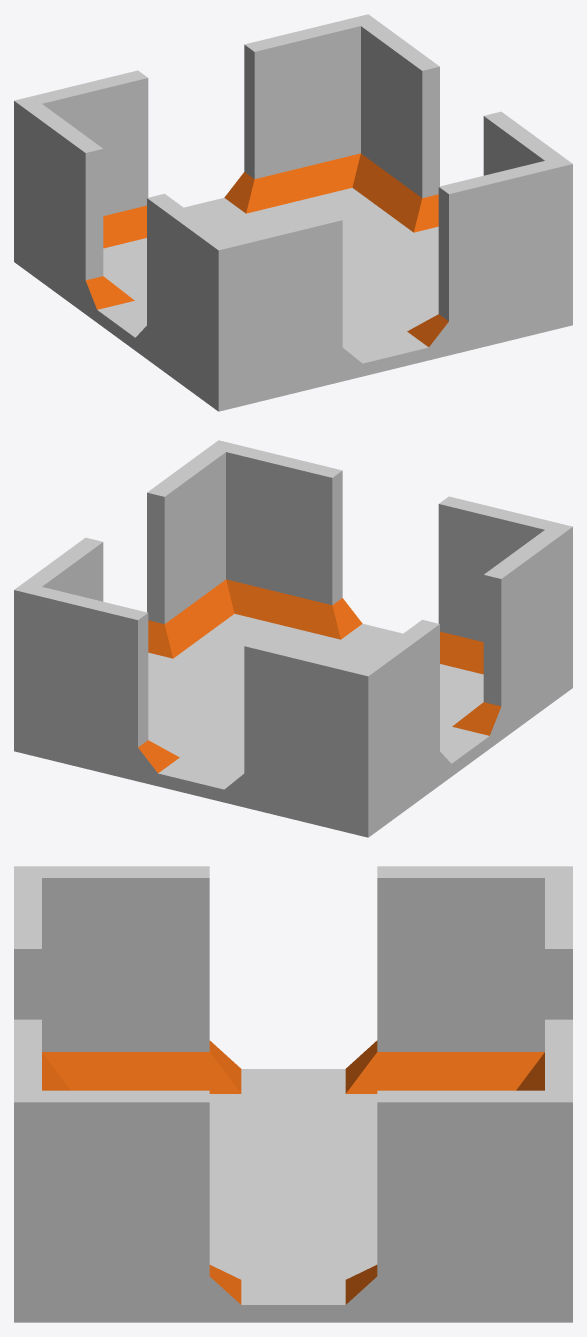
3 views of the same model, one above another, from view 1: azimuth 30°, elevation 25°; view 2: azimuth 150°, elevation 25°; view 3: azimuth 270°, elevation 25° (orthographic). The views are drawn at different scales.
Visible parts, largest first — view 1: Плоскость; view 2: Плоскость; view 3: Плоскость.
Boxes of the visible parts, x1,y1,x2,y2 form: Плоскость: [14, 14, 572, 411]; Плоскость: [14, 440, 572, 837]; Плоскость: [14, 866, 572, 1322].
Size of the model in its own units: 599 by 260 by 599.
